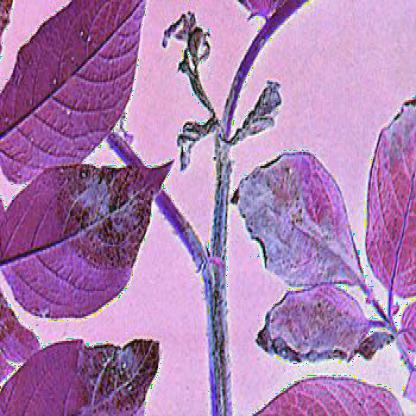potato leaf late blight: (222, 145, 376, 309), (256, 280, 376, 361), (370, 91, 415, 300)
